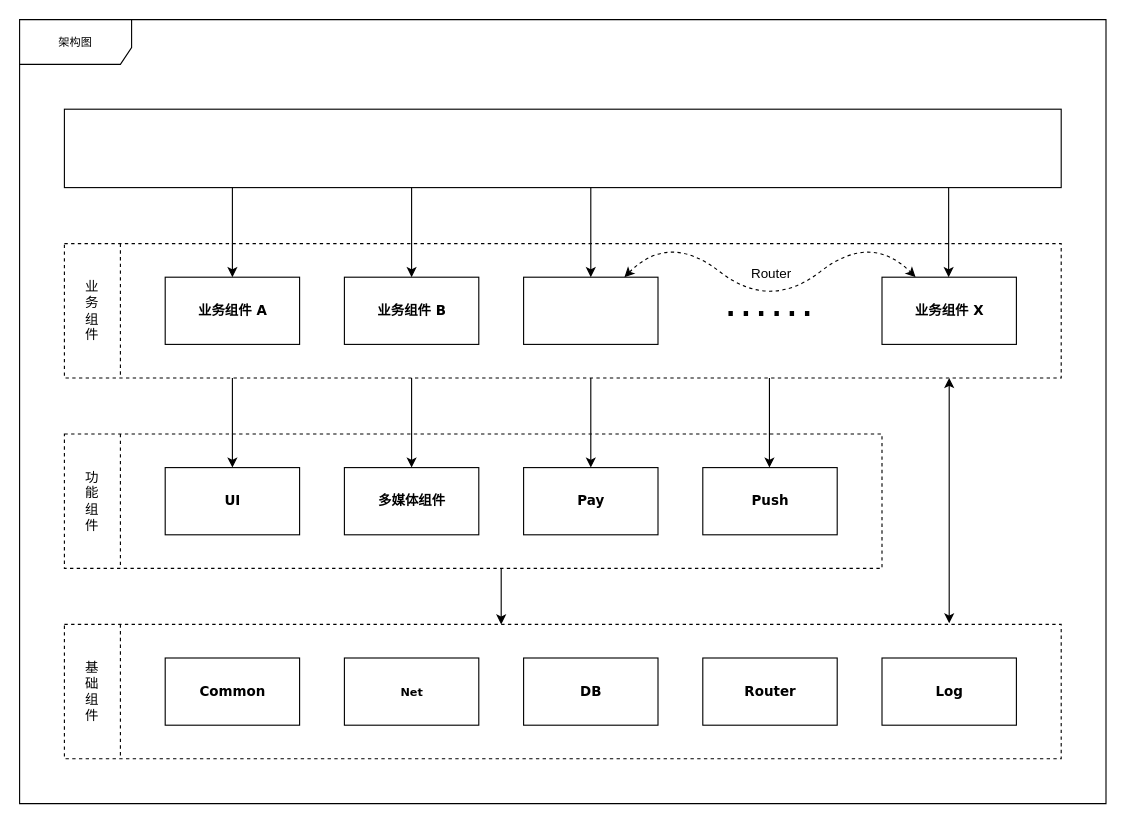
Image size: 1126x823. Some labels were removed from this diagram. Here are the shapes that lost their labels. From the top down, the centre of each, then its label:
At (x=562, y=148): "App 主工程".
At (x=590, y=310): "业务组件 C".
